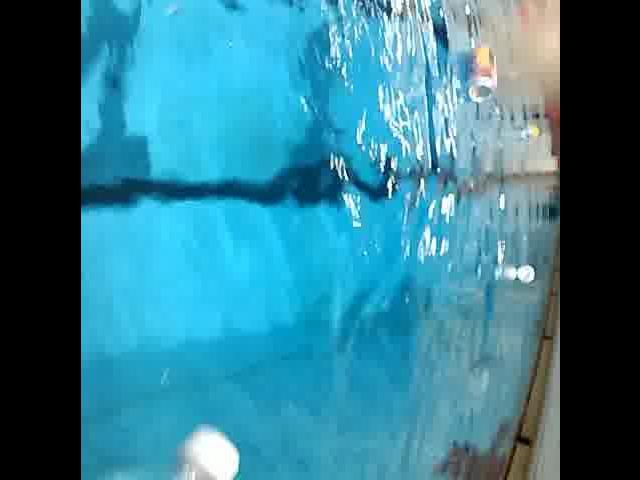Bottle: (81, 406, 258, 480)
Can: (458, 36, 502, 115), (508, 262, 540, 289), (511, 126, 542, 144)
